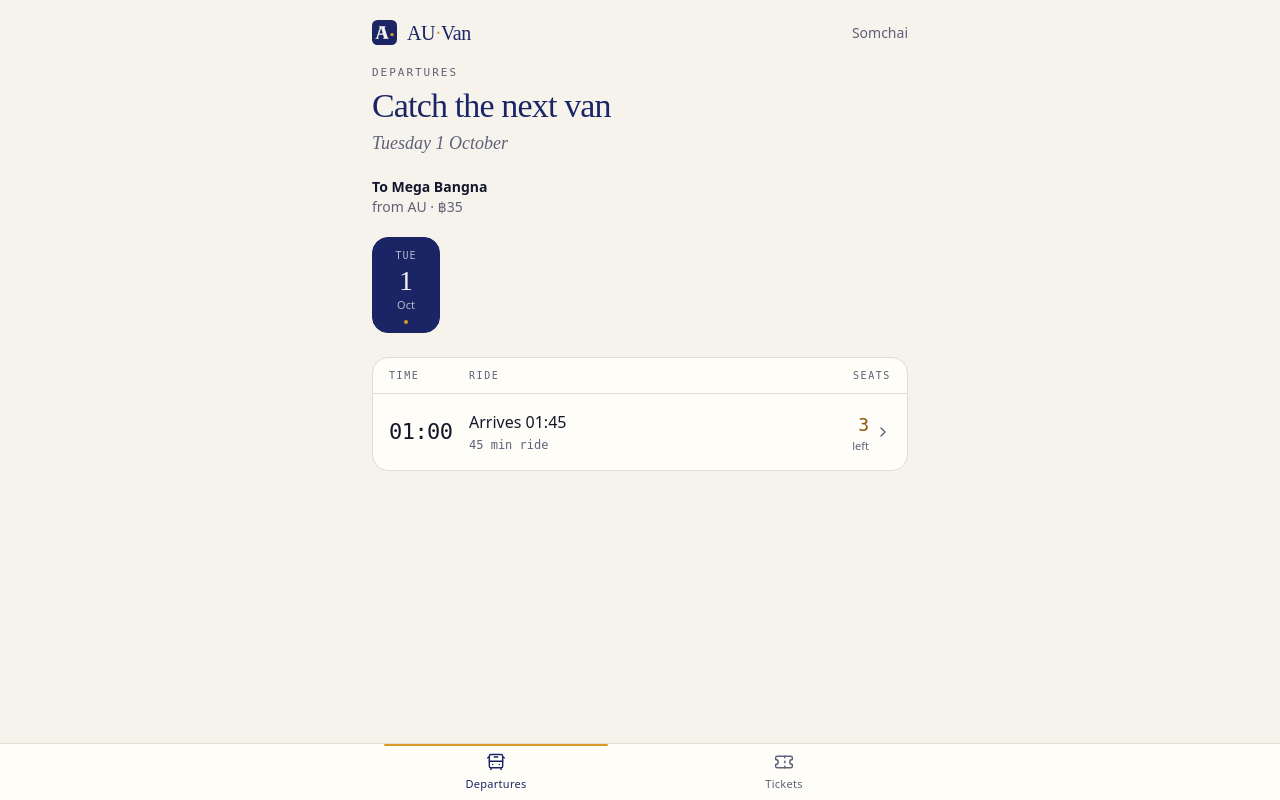
Student app › returns to the trip list when the trip is withdrawn before the hold
Click the button with aria-label "Mega Bangna".
click(421, 432)  # box [373,394,907,470]
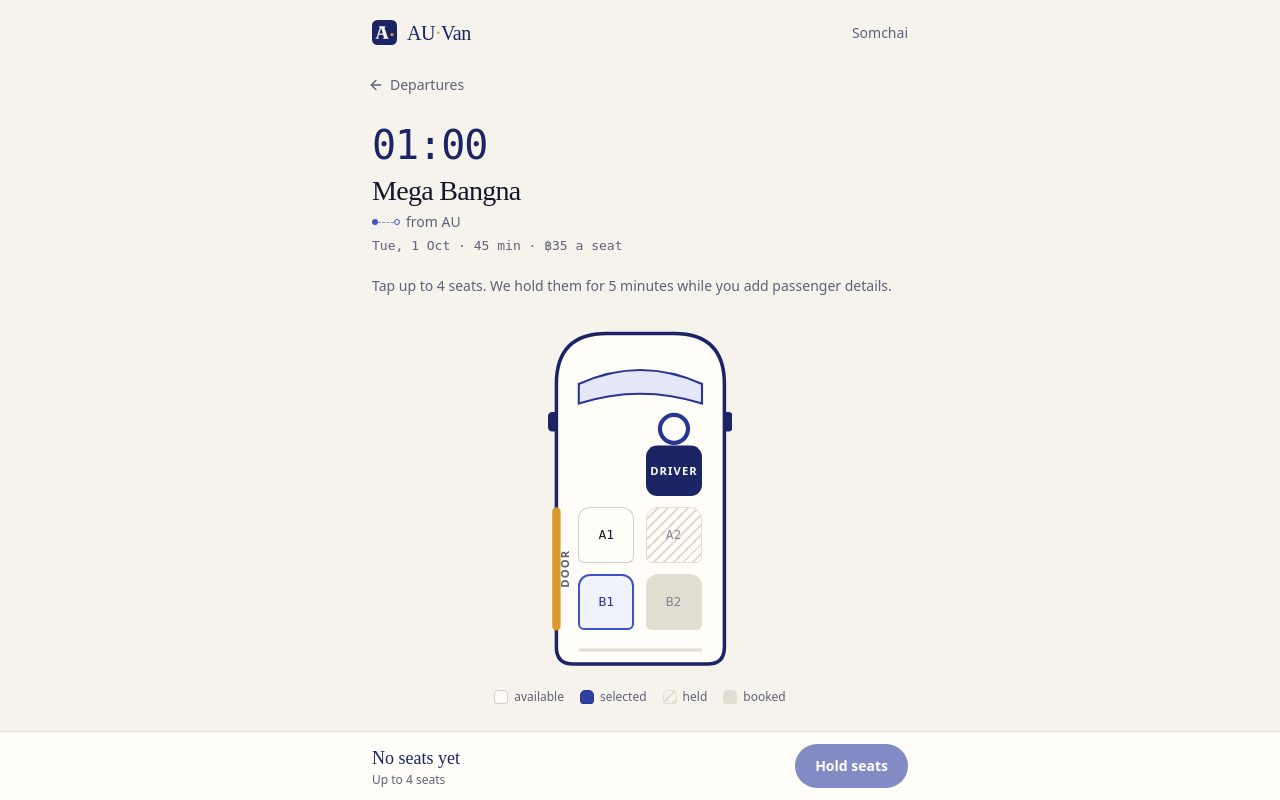
Click the button named "Seat A1, available".
click(606, 535)  # box [578,507,634,563]
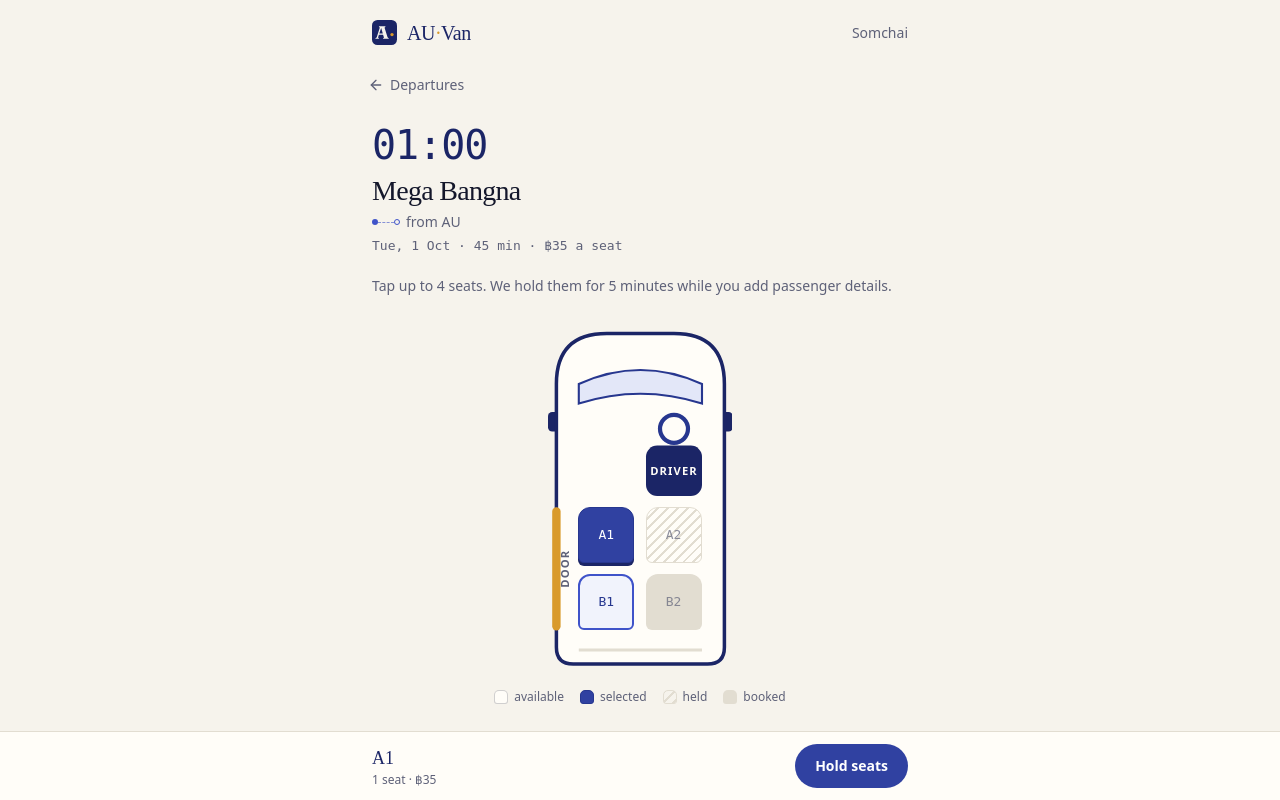
Click the button "Hold seats".
click(852, 766)  # box [795,744,908,788]
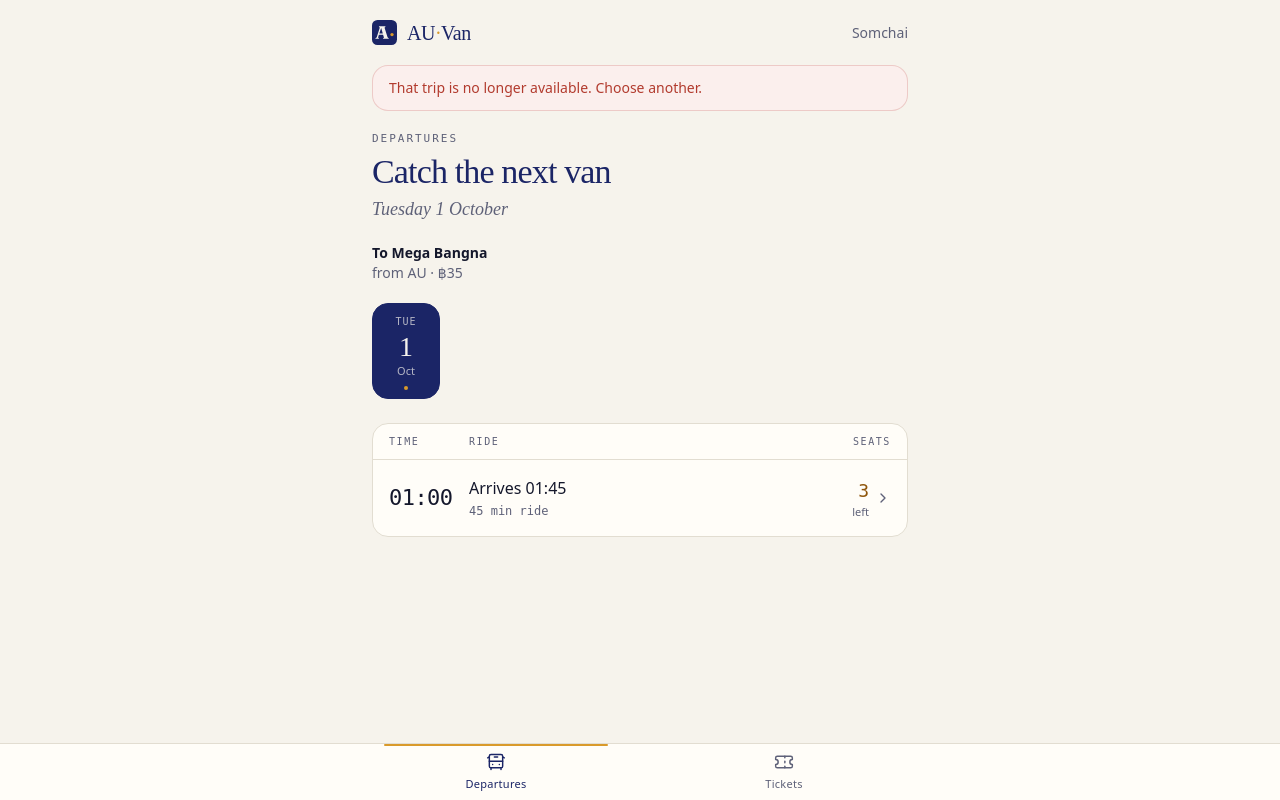
Expected: the heading "Catch the next van" is shown, [372,152,611,190]
